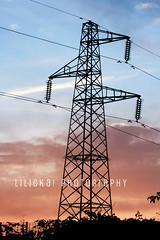power_tower: (36, 18, 146, 225)
